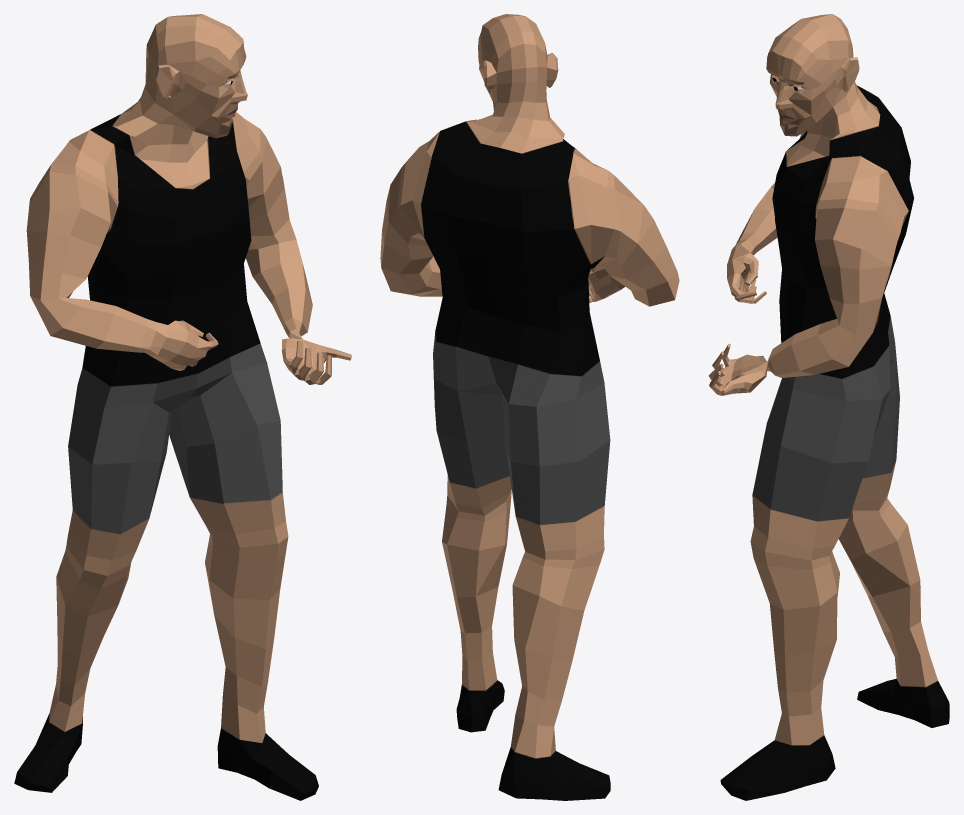
File: PlayerIdle(124).obj
The picture shows the model from 3 angles, left to right: view 1: azimuth 30°, elevation 25°; view 2: azimuth 150°, elevation 25°; view 3: azimuth 270°, elevation 25°; orthographic projection. The views are drawn at different scales.
Parts seen in each view (by area): view 1: Plane002; view 2: Plane002; view 3: Plane002.
Boxes of the visible parts, x1=… form: Plane002: x1=14, y1=14, x2=351, y2=800; Plane002: x1=380, y1=14, x2=679, y2=800; Plane002: x1=708, y1=14, x2=949, y2=800.
Bounding box in the file's own units: 698 × 1799 × 531.
